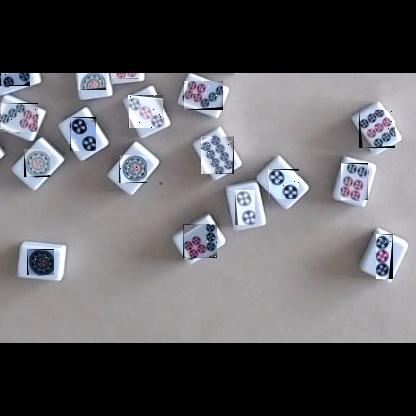1p: (119, 155, 147, 183), (24, 149, 50, 177), (27, 249, 54, 275), (78, 73, 106, 90)
2p: (268, 169, 299, 199), (70, 117, 96, 151), (235, 190, 255, 225)
3p: (128, 95, 163, 128), (376, 234, 393, 279)
4p: (0, 73, 30, 86)
6p: (340, 163, 368, 200), (111, 73, 138, 79)
7p: (183, 81, 223, 110), (183, 224, 217, 258), (0, 103, 38, 132)
8p: (201, 136, 234, 174)
9p: (359, 110, 395, 148)
